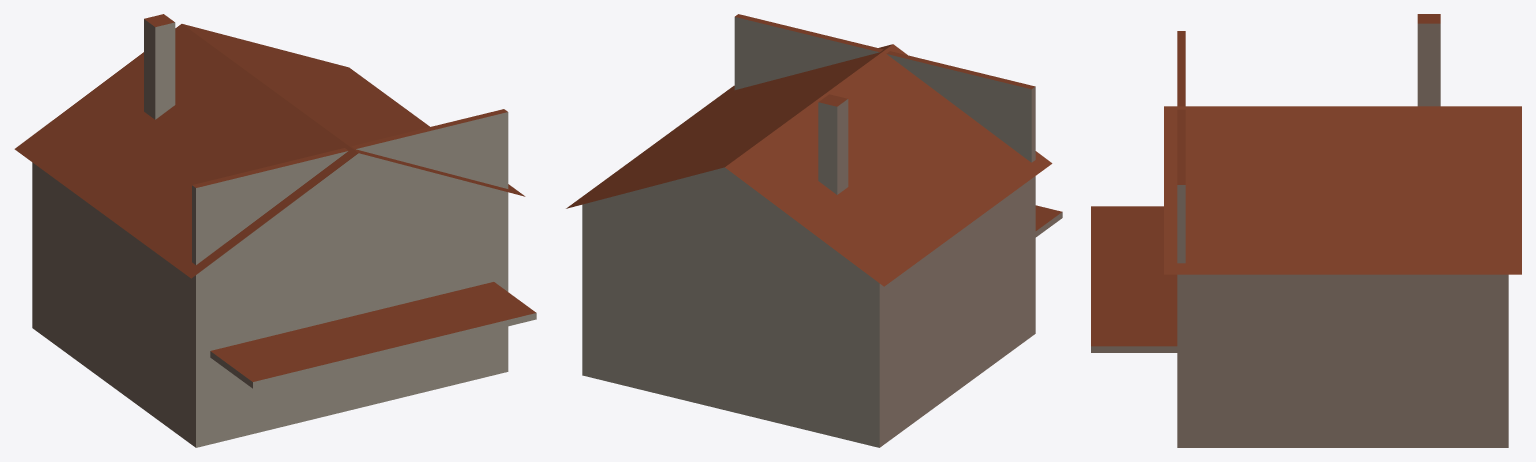
Rendered from cr-mission-house.far-facades-v3.lod2.glb.
3 views of the same model, side by side, from view 1: azimuth 30°, elevation 25°; view 2: azimuth 150°, elevation 25°; view 3: azimuth 270°, elevation 25° (orthographic). The views are drawn at different scales.
Parts seen in each view (by area): view 1: cr-mission-house; view 2: cr-mission-house; view 3: cr-mission-house.
Boxes of the visible parts, box(x1,y1,x2,y2) form: cr-mission-house: box(14, 14, 536, 447); cr-mission-house: box(566, 14, 1062, 447); cr-mission-house: box(1091, 14, 1521, 447).
Bounding box in the file's own units: 11.8 × 10.6 × 13.
